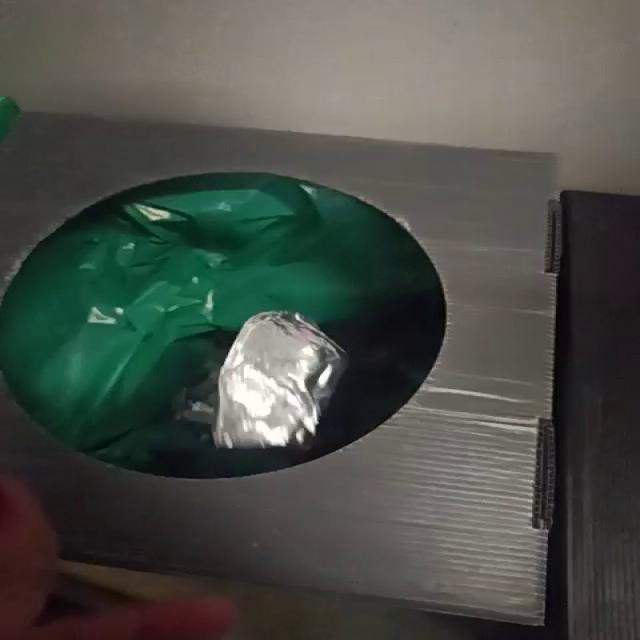bin: (1, 113, 556, 626)
metal: (212, 312, 348, 448)
